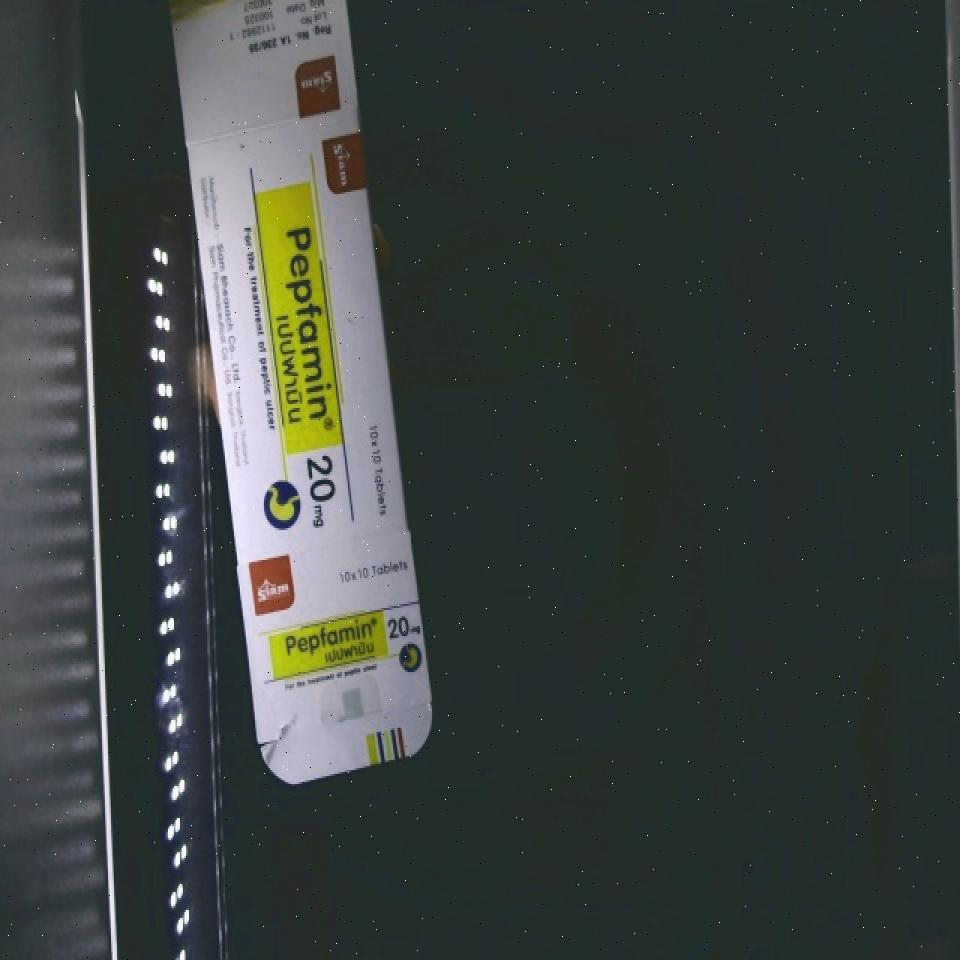medicine_box: (166, 0, 434, 775)
medicine_label_obb: (254, 191, 344, 450)
